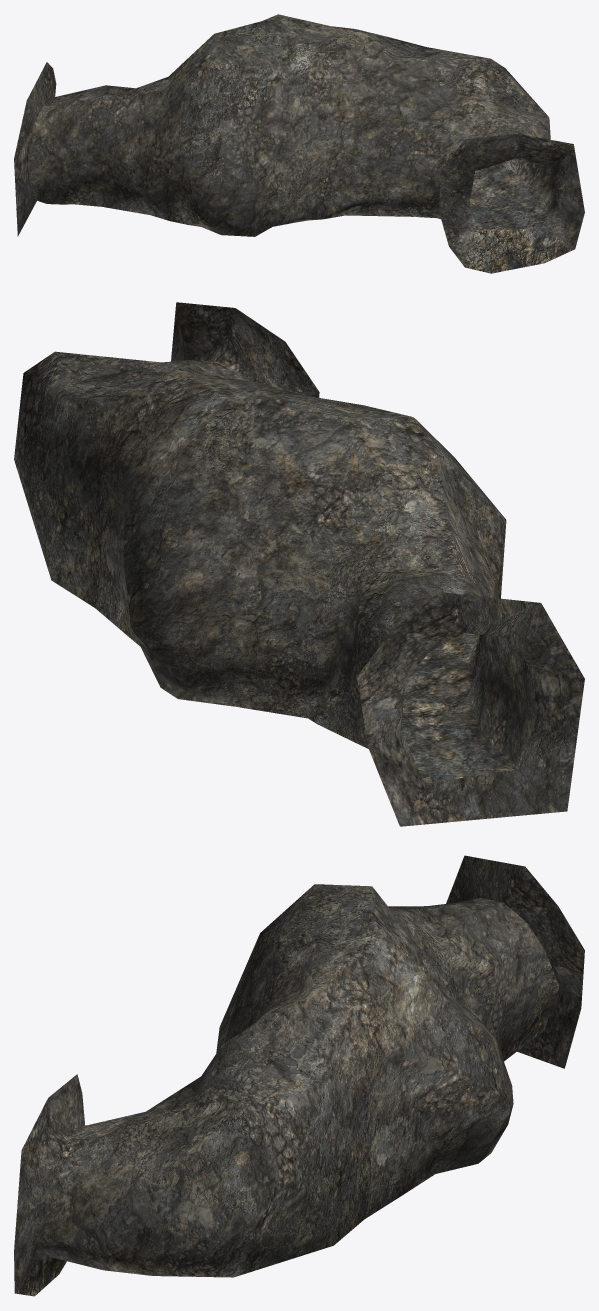
The model's file is Cave23.fbx.
The picture shows the model from 3 angles, top to bottom: view 1: azimuth 30°, elevation 25°; view 2: azimuth 150°, elevation 25°; view 3: azimuth 270°, elevation 25°; orthographic projection. The views are drawn at different scales.
Parts seen in each view (by area): view 1: Cave24; view 2: Cave24; view 3: Cave24.
Part boxes in pixels (left/top/right/bottom): Cave24: left=14, top=14, right=584, bottom=273; Cave24: left=14, top=302, right=584, bottom=826; Cave24: left=14, top=855, right=584, bottom=1296.
Size of the model in its own units: 196 by 85.72 by 159.
